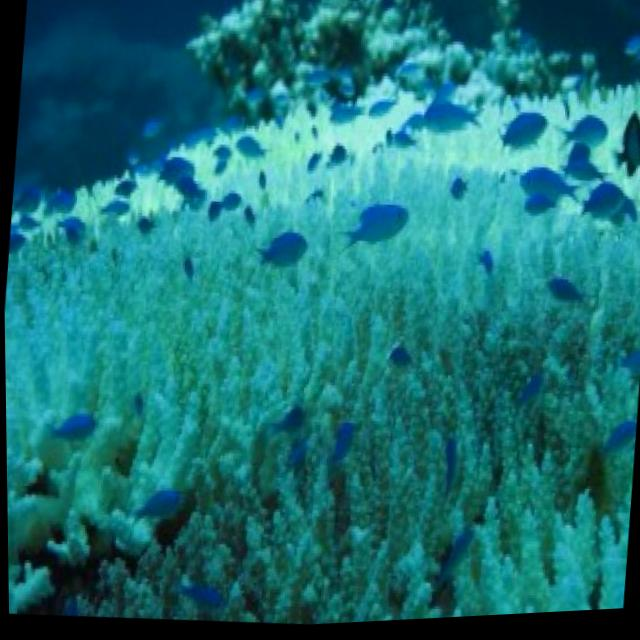Bleached Coral: (1, 31, 640, 640)
